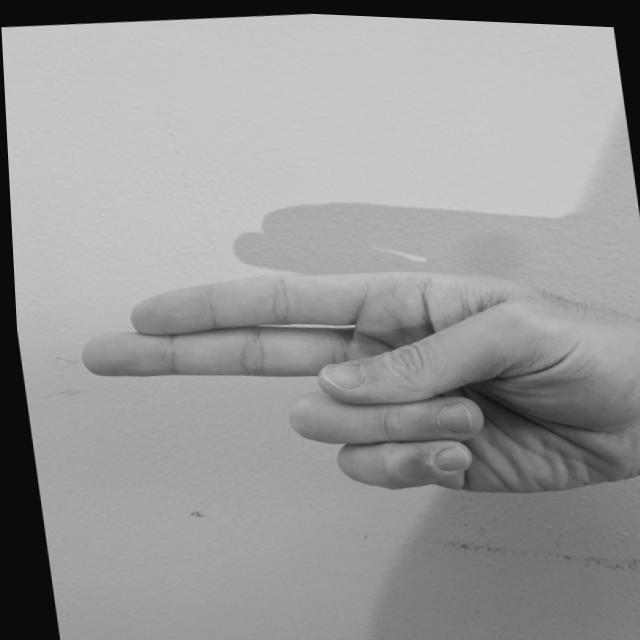H: (58, 222, 639, 541)
